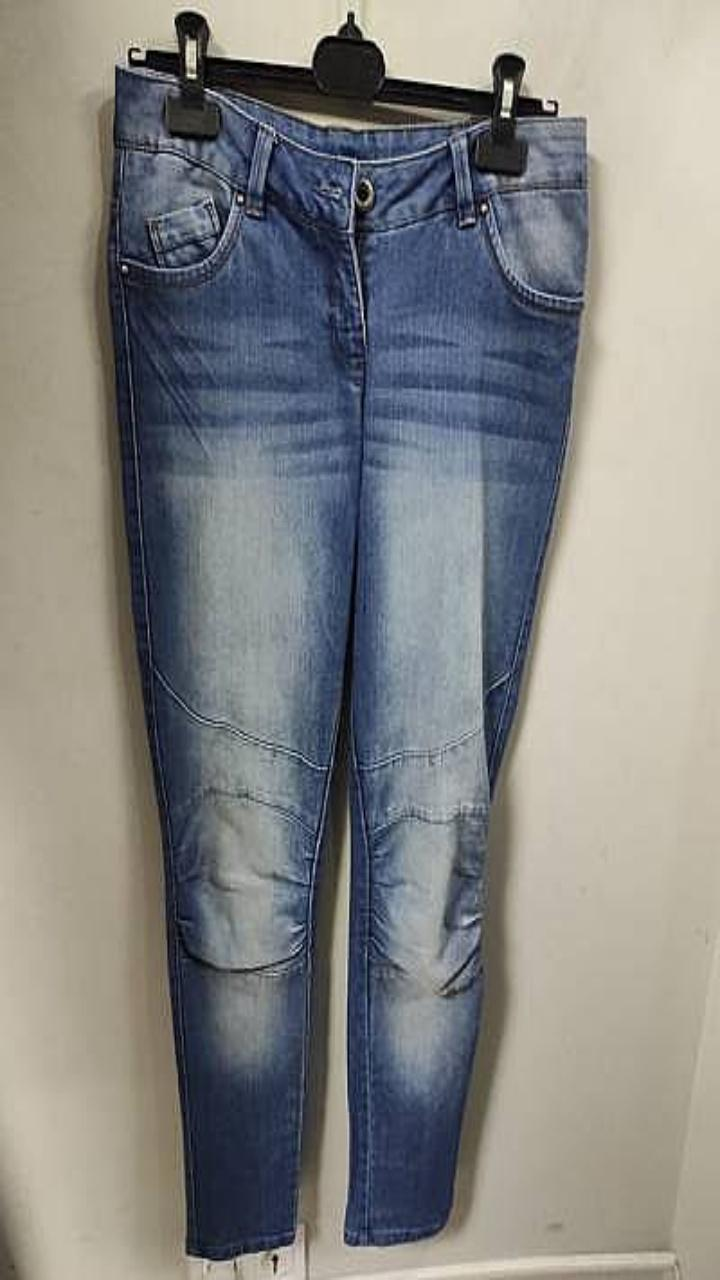Jeans: (107, 64, 587, 1258)
